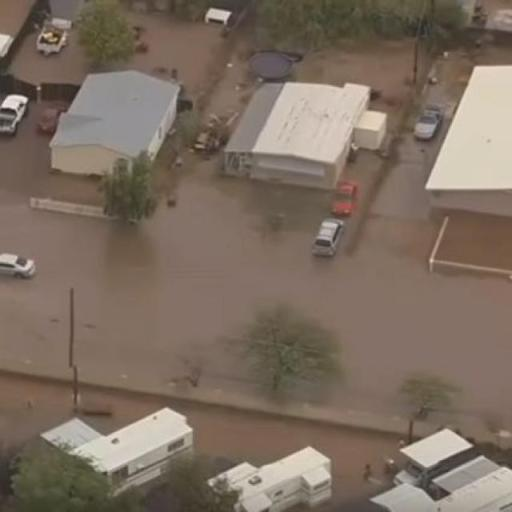flood: (0, 25, 512, 442), (0, 376, 394, 506), (6, 20, 89, 84), (436, 211, 512, 270), (0, 0, 36, 36)
house: (214, 72, 376, 200), (44, 64, 194, 185), (38, 402, 204, 492), (416, 62, 512, 204), (390, 432, 504, 512), (208, 448, 340, 512)
